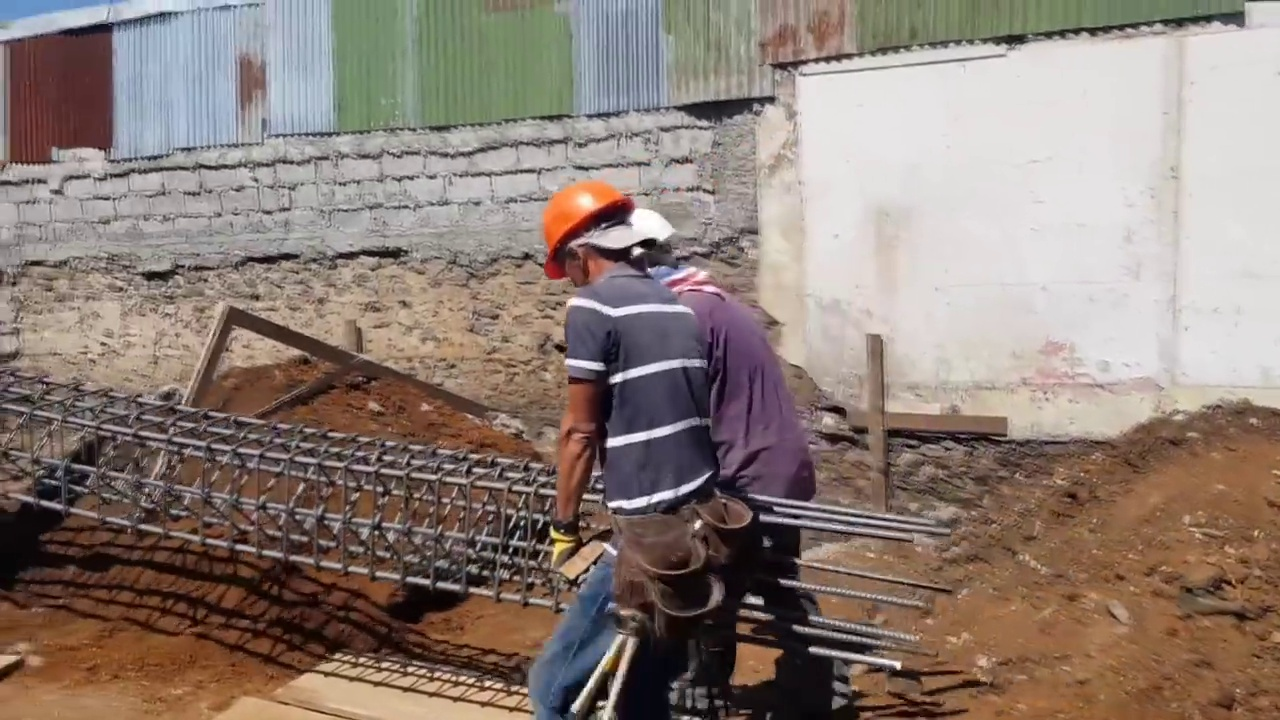helmet: (538, 183, 631, 280), (630, 208, 678, 247)
helmet-on: (539, 183, 651, 299), (631, 206, 708, 298)
person: (527, 187, 746, 713), (631, 203, 849, 714)
